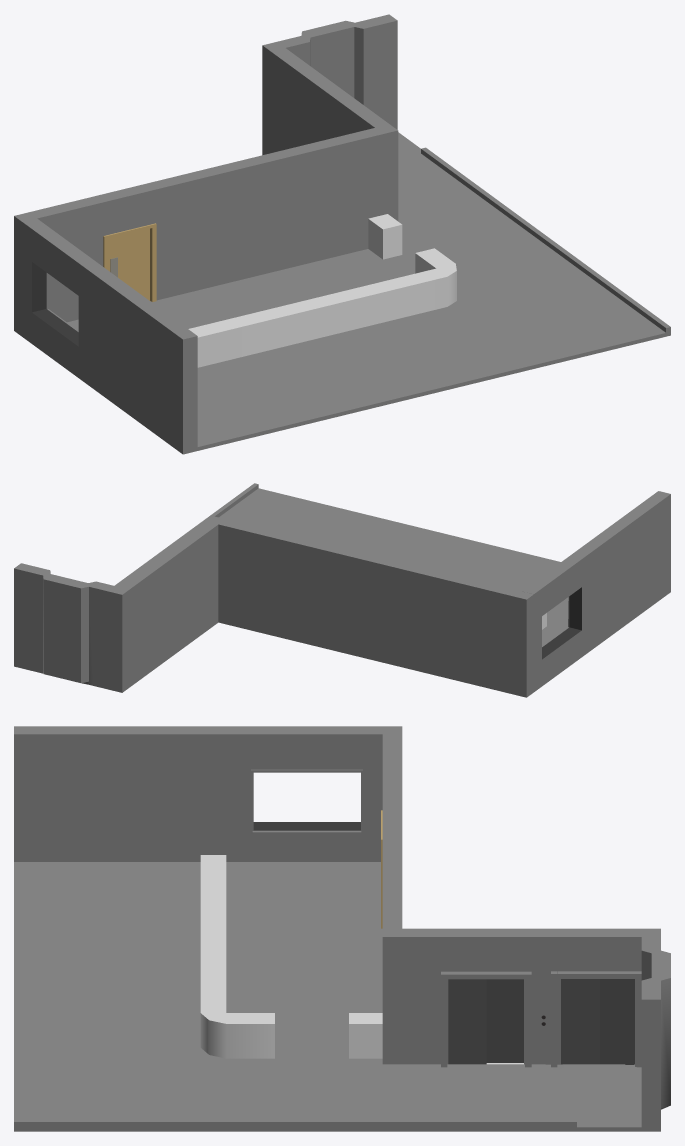
The model's file is lobby.fbx.
3 renders of one model, top to bottom at view 1: azimuth 30°, elevation 25°; view 2: azimuth 150°, elevation 25°; view 3: azimuth 270°, elevation 25°, orthographic. The views are drawn at different scales.
Visible parts, largest first — view 1: Room, Cube_6, Cube_4_2, Cube_5, Cube_9_2; view 2: Room, Cube_9_2; view 3: Room, Cube_6, Cube_1, Cube_3, Cube, Cube_2, Cube_5, Cube_9, Cube_9_2.
Boxes of the visible parts, x1,y1,x2,y2 form: Room: (14, 14, 670, 454); Cube_6: (188, 248, 456, 367); Cube_4_2: (108, 228, 151, 301); Cube_5: (368, 214, 402, 259); Cube_9_2: (32, 262, 78, 346); Room: (14, 483, 670, 697); Cube_9_2: (542, 587, 581, 659); Room: (14, 726, 670, 1131); Cube_6: (200, 855, 274, 1058); Cube_1: (448, 979, 486, 1064); Cube_3: (561, 979, 599, 1064); Cube: (486, 979, 523, 1062); Cube_2: (600, 979, 634, 1064); Cube_5: (349, 1013, 382, 1058); Cube_9: (251, 769, 362, 833); Cube_9_2: (253, 822, 360, 830).
Size of the model in its own units: 2000 by 450 by 2031.
